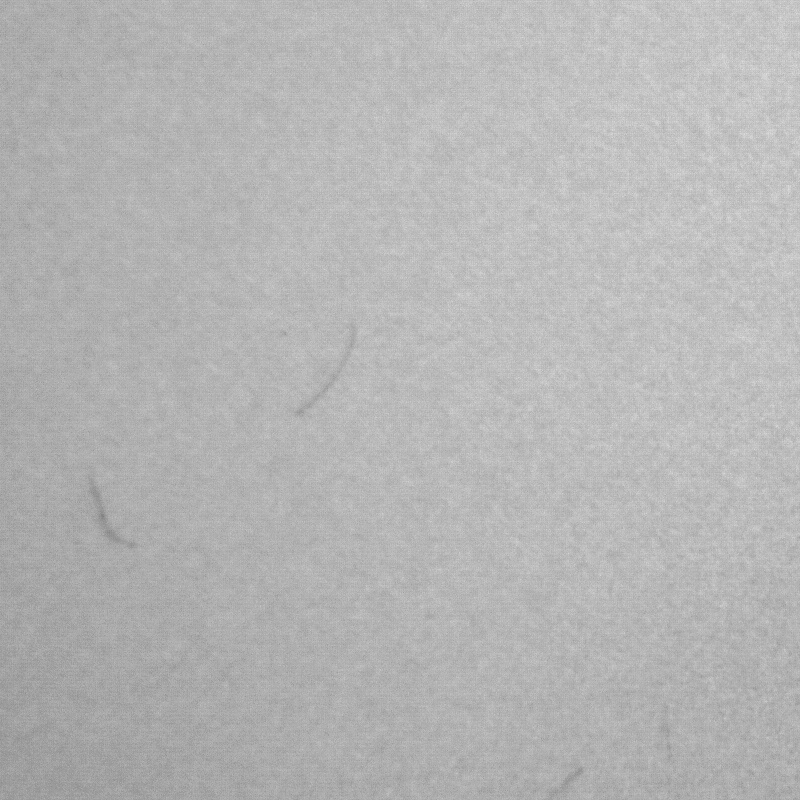defect: (296, 327, 354, 417), (82, 480, 138, 555), (548, 766, 591, 798)
